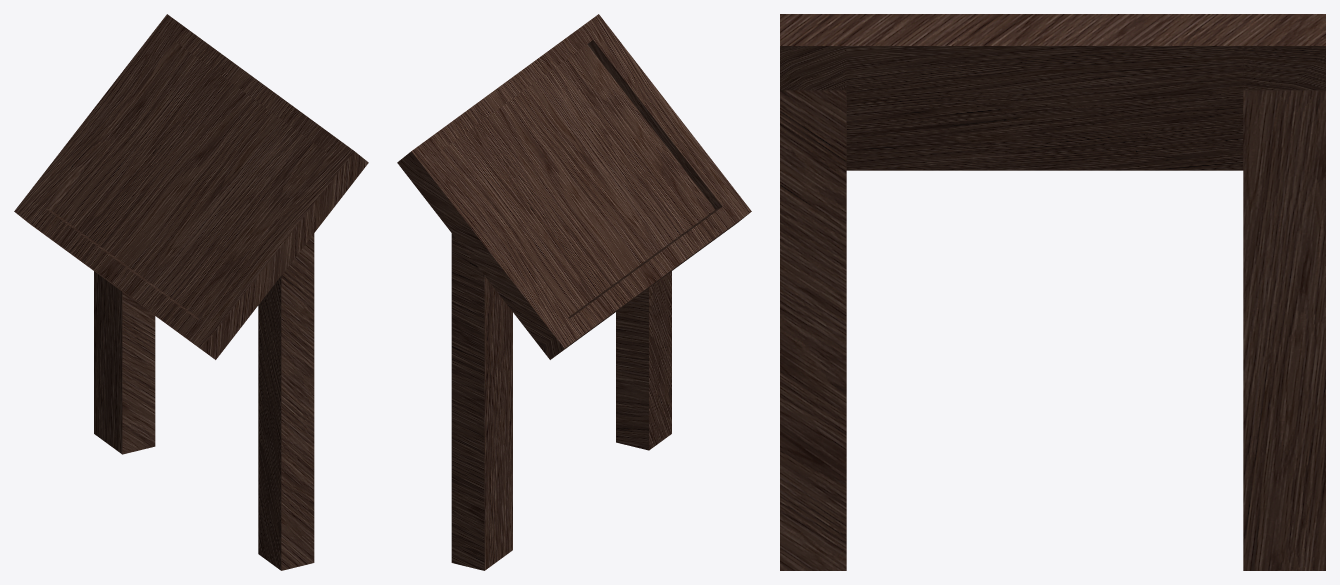
The model's file is ConsolaEXPORT.glb.
3 renders of one model, left to right at view 1: azimuth 30°, elevation 25°; view 2: azimuth 150°, elevation 25°; view 3: azimuth 270°, elevation 25°, orthographic. The views are drawn at different scales.
Visible parts, largest first — view 1: CONSOLA; view 2: CONSOLA; view 3: CONSOLA.
Part boxes in pixels (x1,y1,x2,y2): CONSOLA: (14,14,368,570); CONSOLA: (397,14,751,570); CONSOLA: (780,14,1325,570).
Size of the model in its own units: 0.8066 by 1.85 by 1.56.
1 material, 1 textured.
